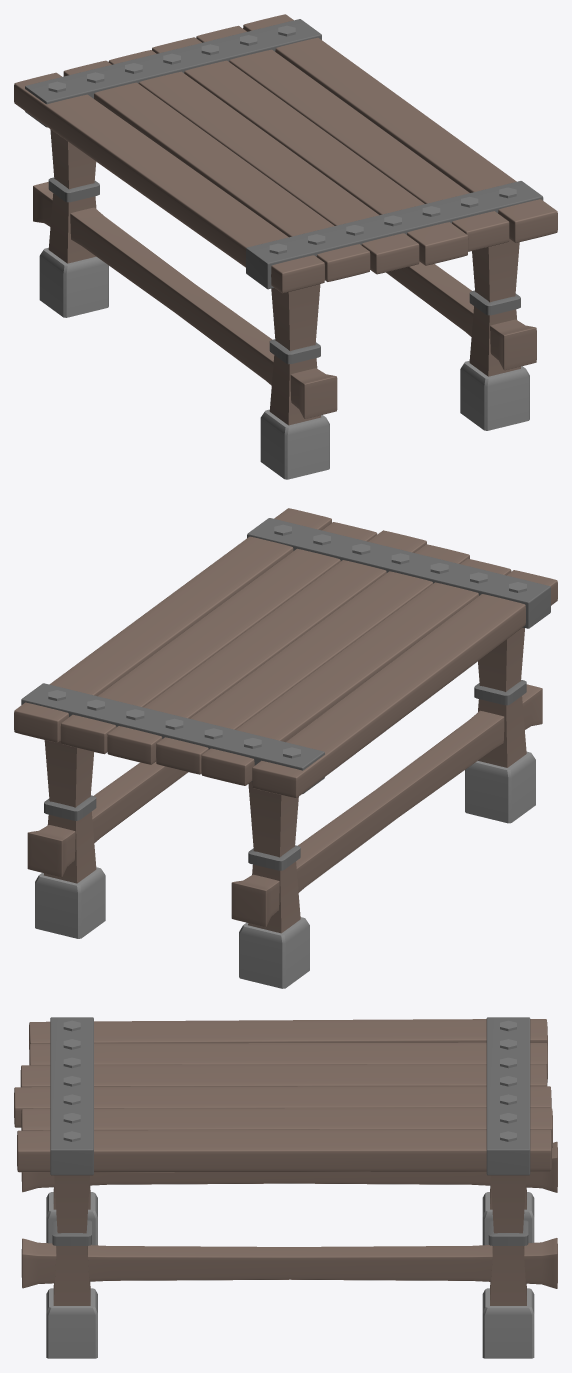
The model's file is TableHD.fbx.
3 views of the same model, one above another, from view 1: azimuth 30°, elevation 25°; view 2: azimuth 150°, elevation 25°; view 3: azimuth 270°, elevation 25° (orthographic). The views are drawn at different scales.
Parts seen in each view (by area): view 1: Table1; view 2: Table1; view 3: Table1.
Boxes of the visible parts, left/top/right/bottom form: Table1: left=14, top=14, right=557, bottom=479; Table1: left=14, top=508, right=557, bottom=988; Table1: left=14, top=1017, right=557, bottom=1358.
Bounding box in the file's own units: 7.28 × 5.53 × 12.47.
